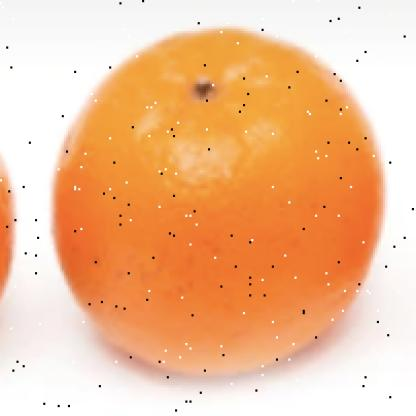fresh: (61, 22, 385, 375)
